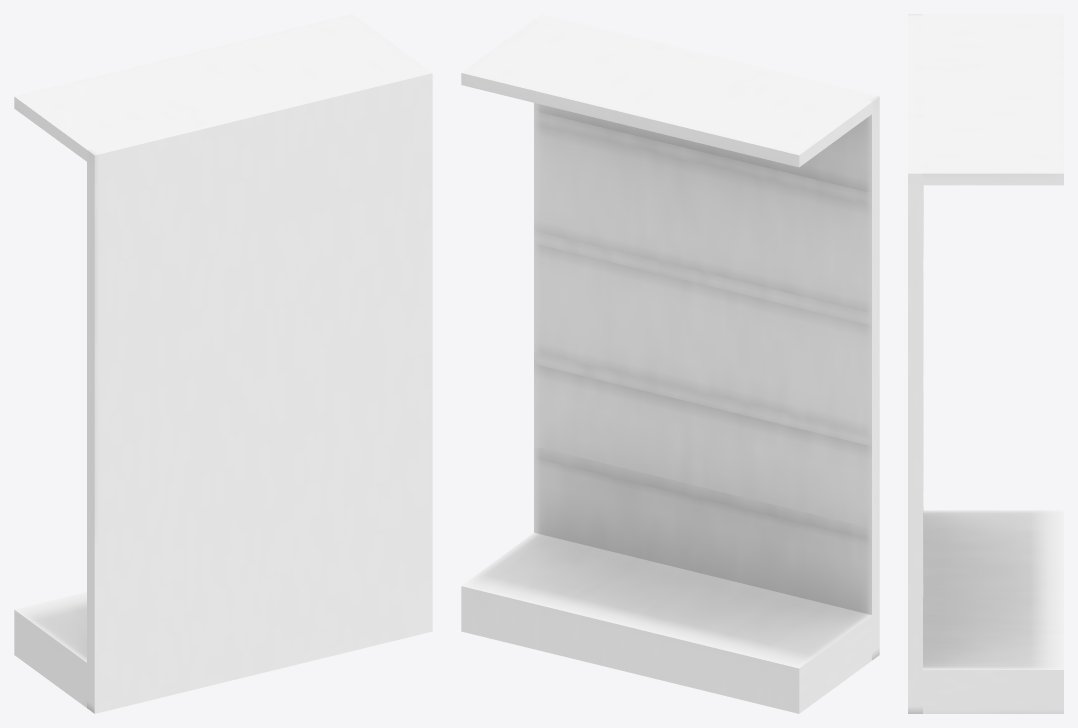
File: ShelfOne.glb
3 views of the same model, side by side, from view 1: azimuth 30°, elevation 25°; view 2: azimuth 150°, elevation 25°; view 3: azimuth 270°, elevation 25° (orthographic). The views are drawn at different scales.
Visible parts, largest first — view 1: ShelfOne; view 2: ShelfOne; view 3: ShelfOne.
Boxes of the visible parts, x1,y1,x2,y2 form: ShelfOne: [14, 14, 432, 713]; ShelfOne: [461, 14, 879, 713]; ShelfOne: [908, 14, 1063, 713].
Bounding box in the file's own units: 1.27 × 2 × 0.5231.
Materials: 1 (1 with a texture image).
